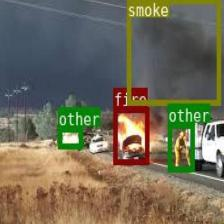fire: (113, 106, 148, 163)
smoke: (126, 0, 220, 104)
